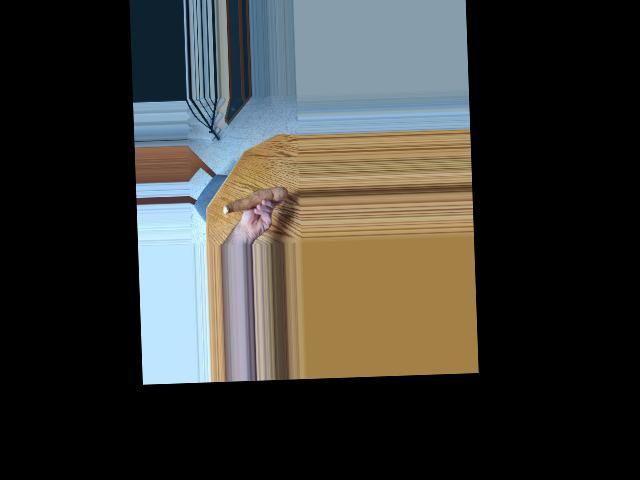sweet_potato: (220, 182, 285, 215)
